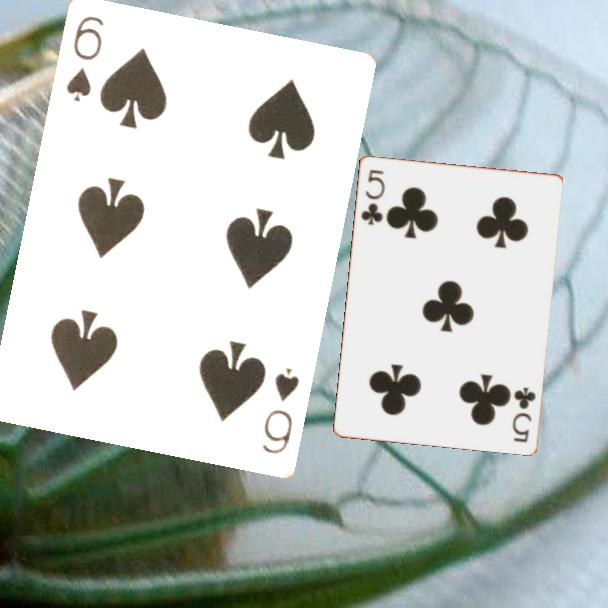c05: (357, 166, 388, 228), (508, 383, 539, 445)
s06: (259, 365, 303, 458), (63, 13, 107, 106)
